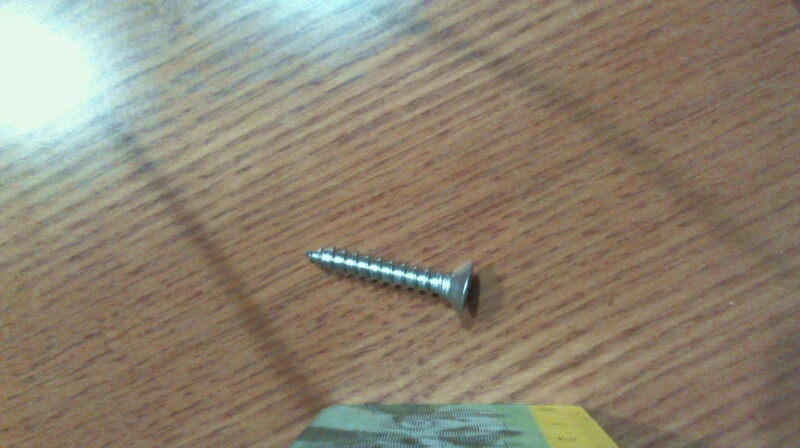S001: (303, 245, 479, 315)
